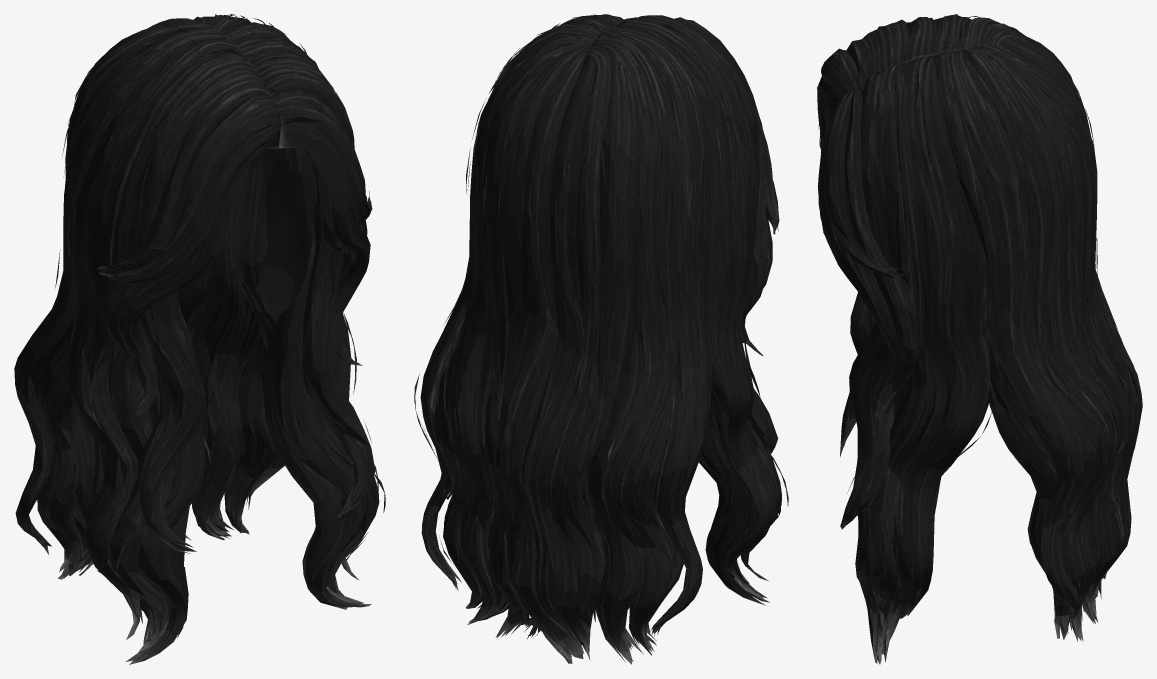
File: CabeloMulher-otimizado.glb
The picture shows the model from 3 angles, left to right: view 1: azimuth 30°, elevation 25°; view 2: azimuth 150°, elevation 25°; view 3: azimuth 270°, elevation 25°; orthographic projection.
Parts seen in each view (by area): view 1: output_unwrapped; view 2: output_unwrapped; view 3: output_unwrapped.
Boxes of the visible parts, x1,y1,x2,y2 form: output_unwrapped: [14, 14, 385, 664]; output_unwrapped: [414, 14, 788, 664]; output_unwrapped: [817, 14, 1142, 664].
Size of the model in its own units: 0.9606 by 1.89 by 0.9655.
1 material, 1 textured.
